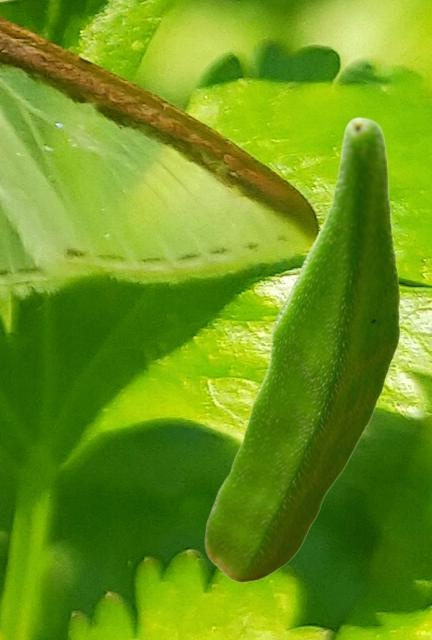okra: (204, 116, 399, 581)
